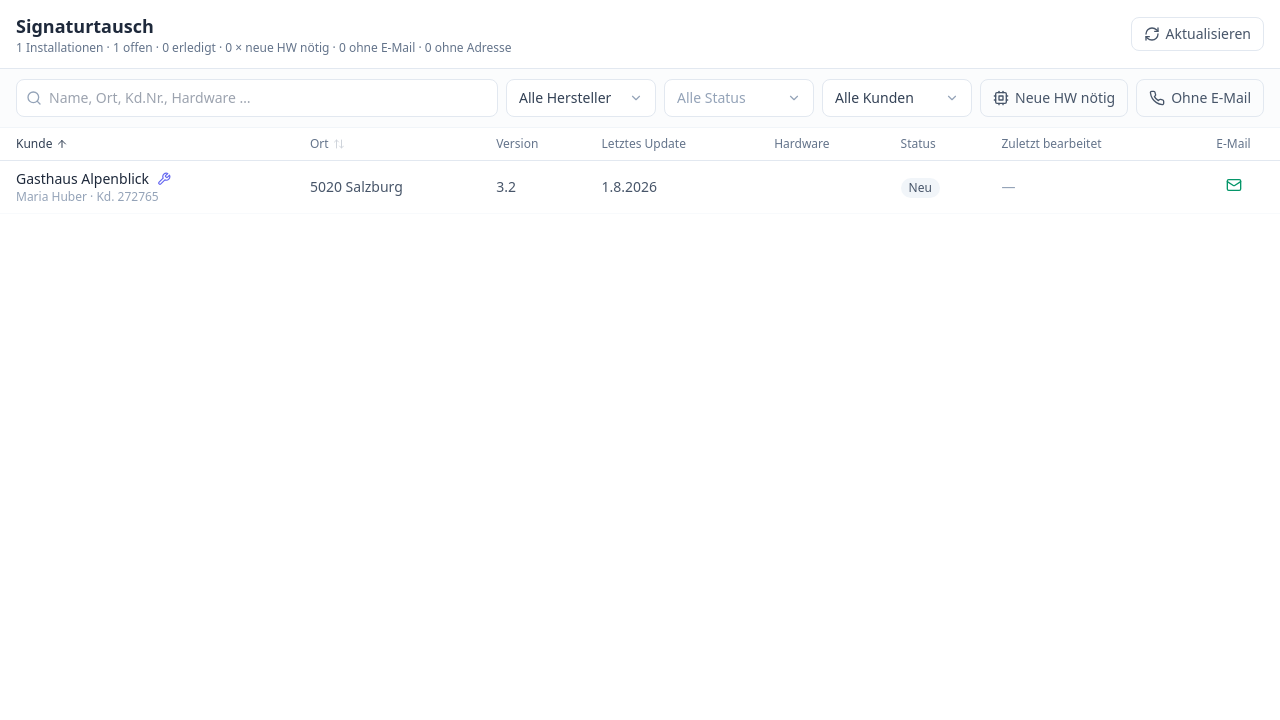
Test: ViertlPage — verknüpftes Ticket anzeigen › zeigt Nummer + Titel des verknüpften Tickets statt des Anlegen-Buttons
Click the text "Gasthaus Alpenblick" at [83, 179], box top-left (16, 169), bottom-right (149, 189)
(page scrolled)
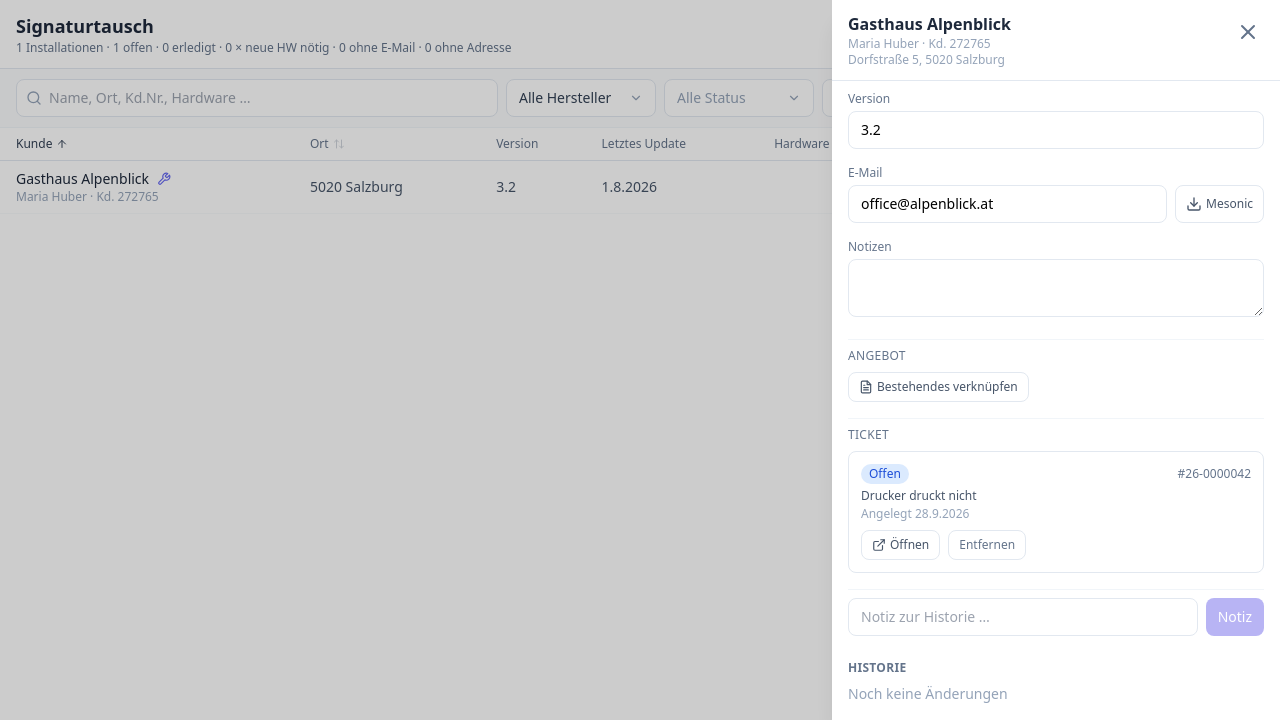
Result: the text "#26-0000042" is shown at top-left (1178, 466), bottom-right (1251, 482)
Result: the text "Drucker druckt nicht" is shown at top-left (861, 487), bottom-right (976, 504)
